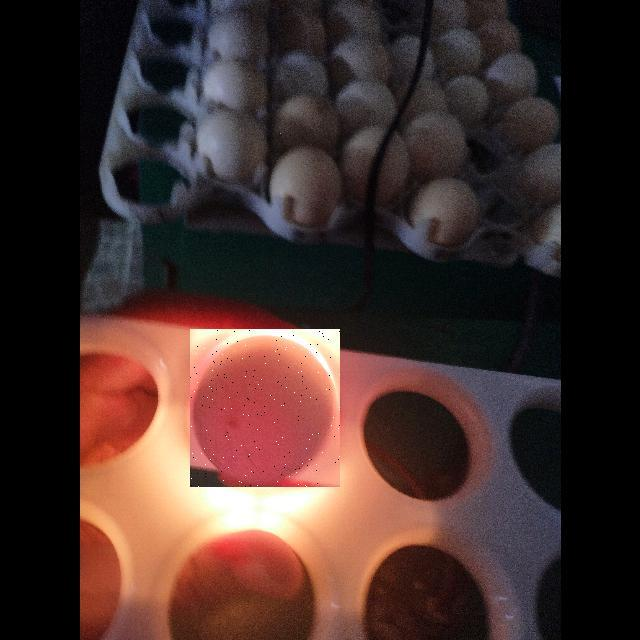Fertile: (190, 329, 340, 487)
